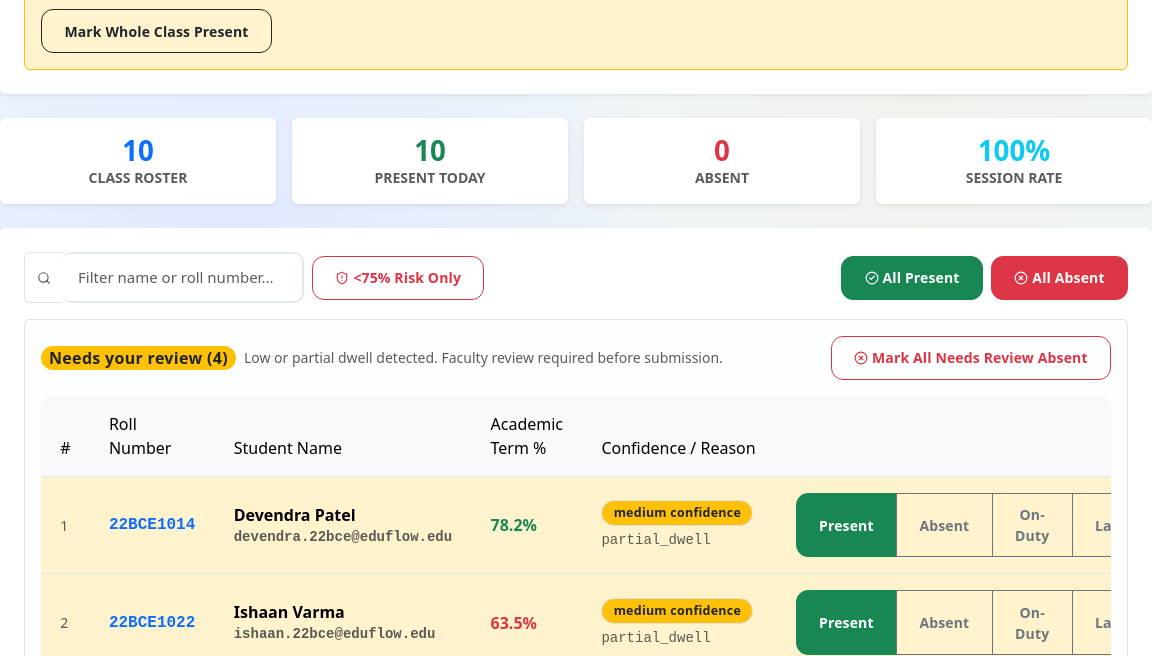
Test: Faculty AttendanceEntryPage Component › renders 2-band sections: Auto-marked (confident) and Needs your review (N)
The width and height of the screenshot is (1164, 656).
(page scrolled)
Expected: the text "Needs your review (4)" is shown, x1=41 y1=346 x2=236 y2=370
Click the button "Mark All Needs Review Absent".
click(971, 358)  # box x1=831 y1=336 x2=1111 y2=380
(page scrolled)
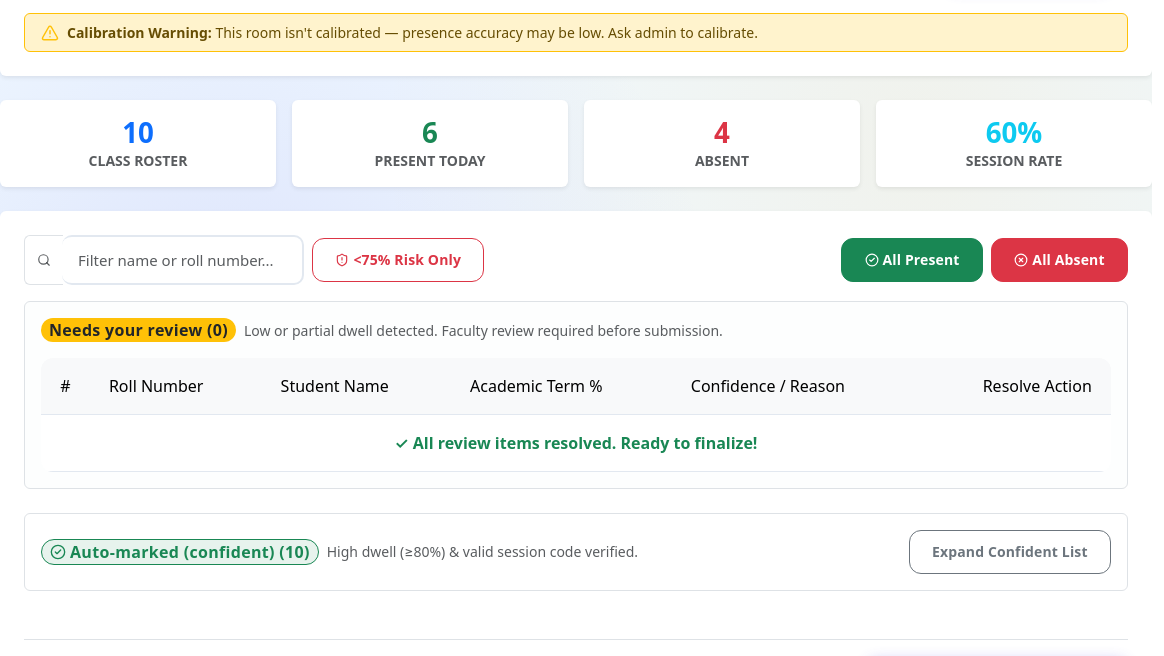
Expected: the text "✓ All review items resolved. Ready to finalize!" is shown, x1=41 y1=415 x2=1111 y2=472
